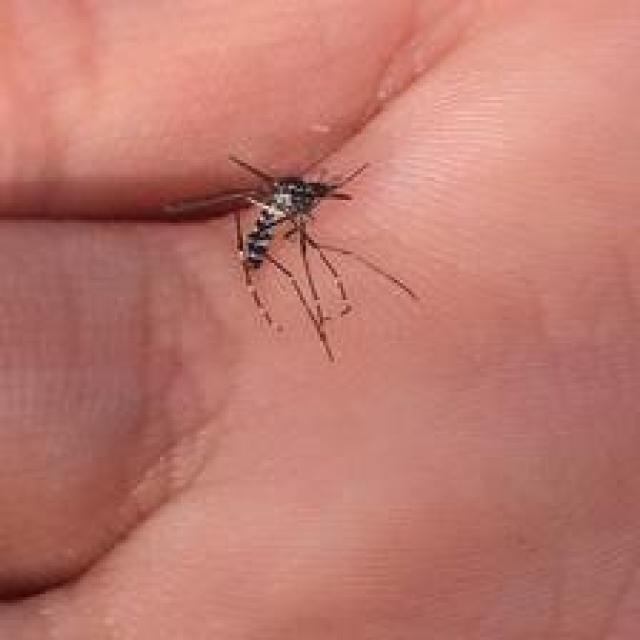Aedes albopictus: (160, 151, 420, 363)
